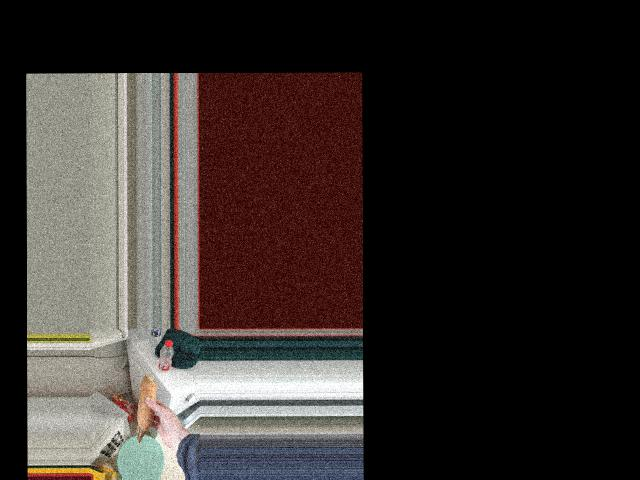sweet_potato: (136, 379, 156, 444)
